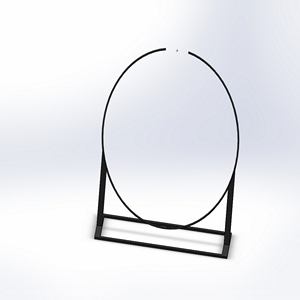circle: (91, 44, 241, 260)
